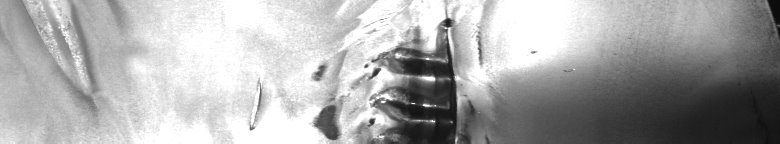ke: (250, 11, 535, 136)
